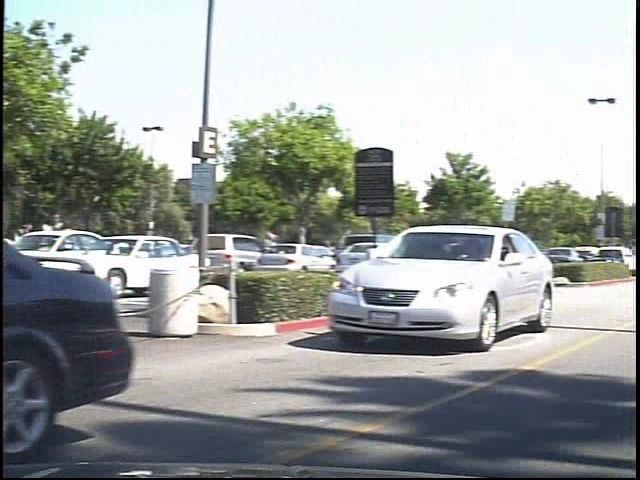person: (266, 223, 293, 274)
